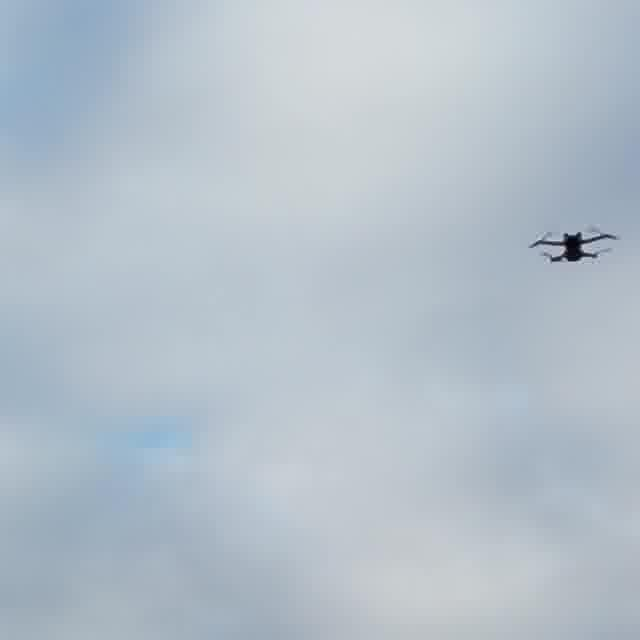Drohne: (529, 230, 618, 262)
